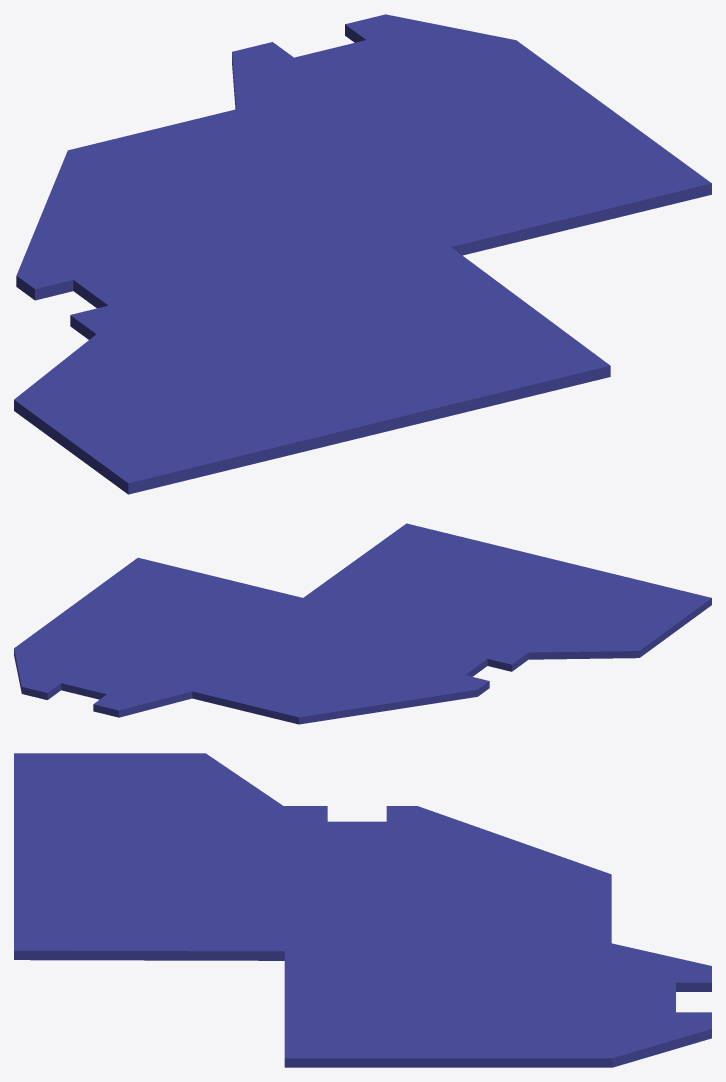
Rendered from NC_Ground03.fbx.
The picture shows the model from 3 angles, top to bottom: view 1: azimuth 30°, elevation 25°; view 2: azimuth 150°, elevation 25°; view 3: azimuth 270°, elevation 25°; orthographic projection. The views are drawn at different scales.
Visible parts, largest first — view 1: NC_Ground03; view 2: NC_Ground03; view 3: NC_Ground03.
Part boxes in pixels (left/top/right/bottom): NC_Ground03: left=14, top=14, right=711, bottom=494; NC_Ground03: left=14, top=523, right=711, bottom=724; NC_Ground03: left=14, top=753, right=711, bottom=1067.
Size of the model in its own units: 857 by 12.41 by 830.
1 material, 1 textured.
